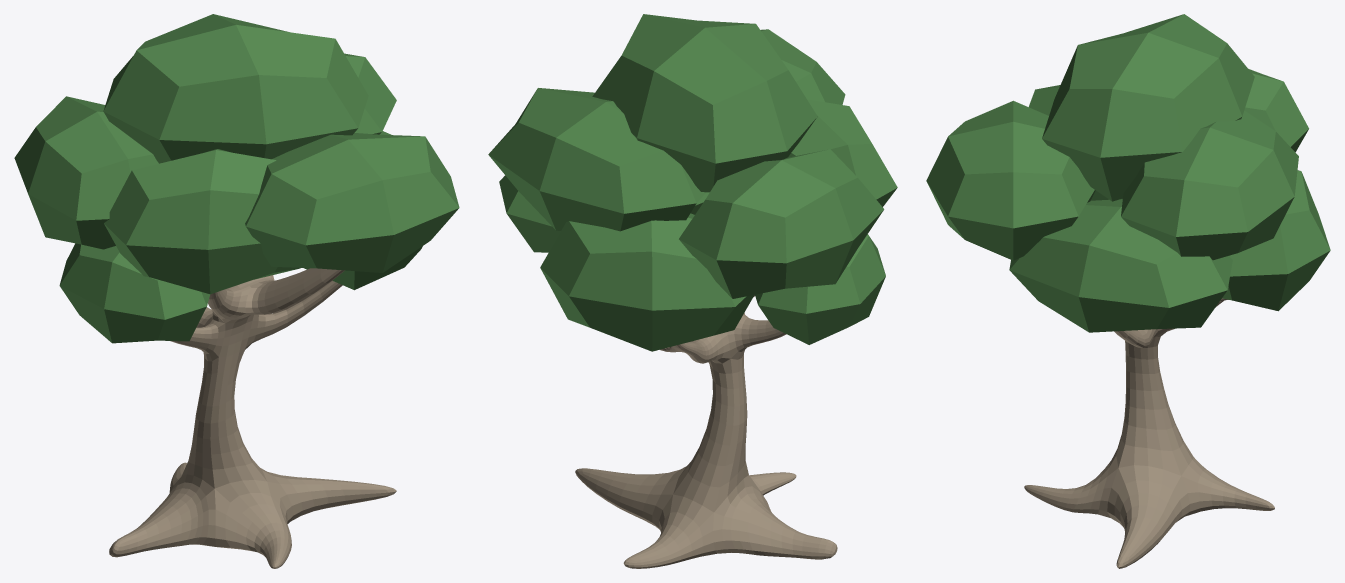
File: Baum_5.fbx
3 views of the same model, side by side, from view 1: azimuth 30°, elevation 25°; view 2: azimuth 150°, elevation 25°; view 3: azimuth 270°, elevation 25° (orthographic). The views are drawn at different scales.
Parts seen in each view (by area): view 1: Cube; view 2: Cube; view 3: Cube.
Part boxes in pixels (x1=…): Cube: x1=14, y1=14, x2=459, y2=568; Cube: x1=488, y1=14, x2=897, y2=568; Cube: x1=926, y1=14, x2=1330, y2=568.
Bounding box in the file's own units: 734 × 946 × 722.
